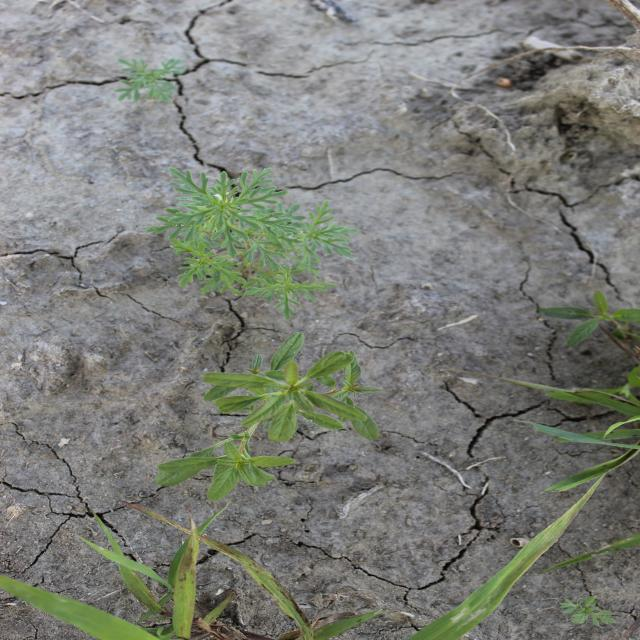Ragweed: (144, 167, 362, 321), (112, 56, 188, 104), (558, 594, 617, 628)
Waterhemp: (152, 331, 384, 502), (536, 288, 639, 348)
